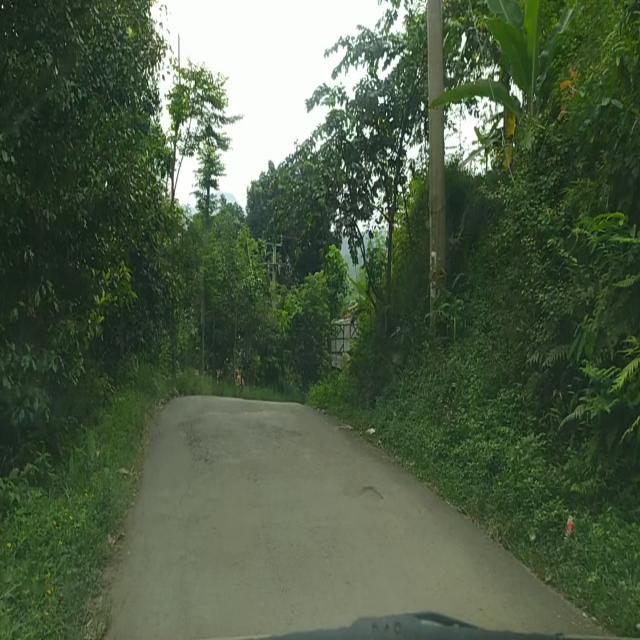Drain Hole: (176, 420, 218, 466)
